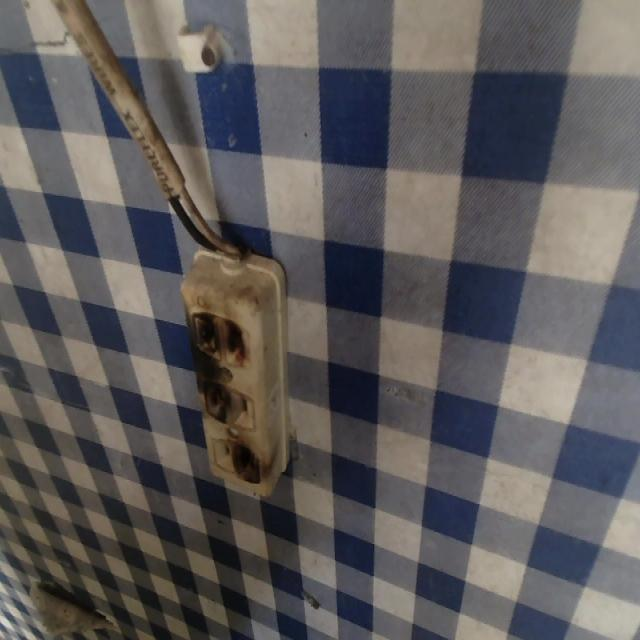-: (184, 302, 253, 369), (193, 374, 236, 429), (229, 437, 264, 491)
